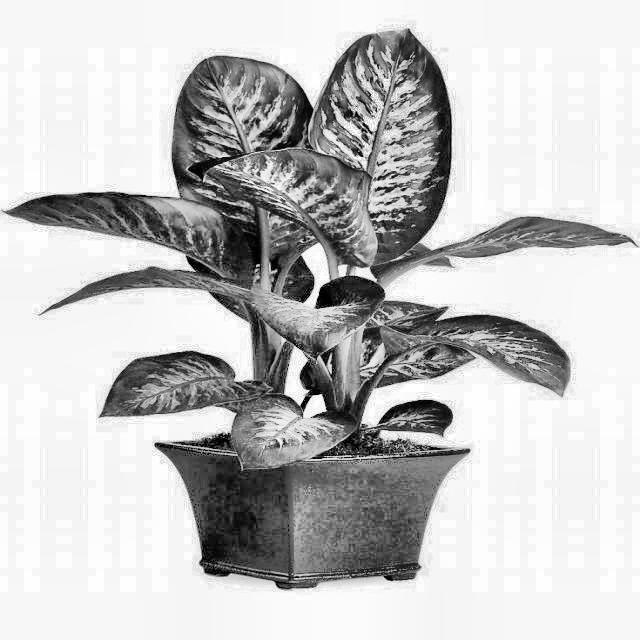plants: (36, 57, 589, 530)
